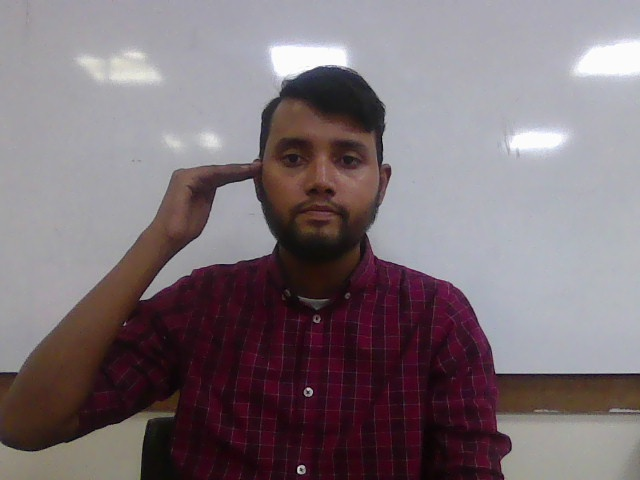Prottibondhi: (156, 162, 265, 244)
